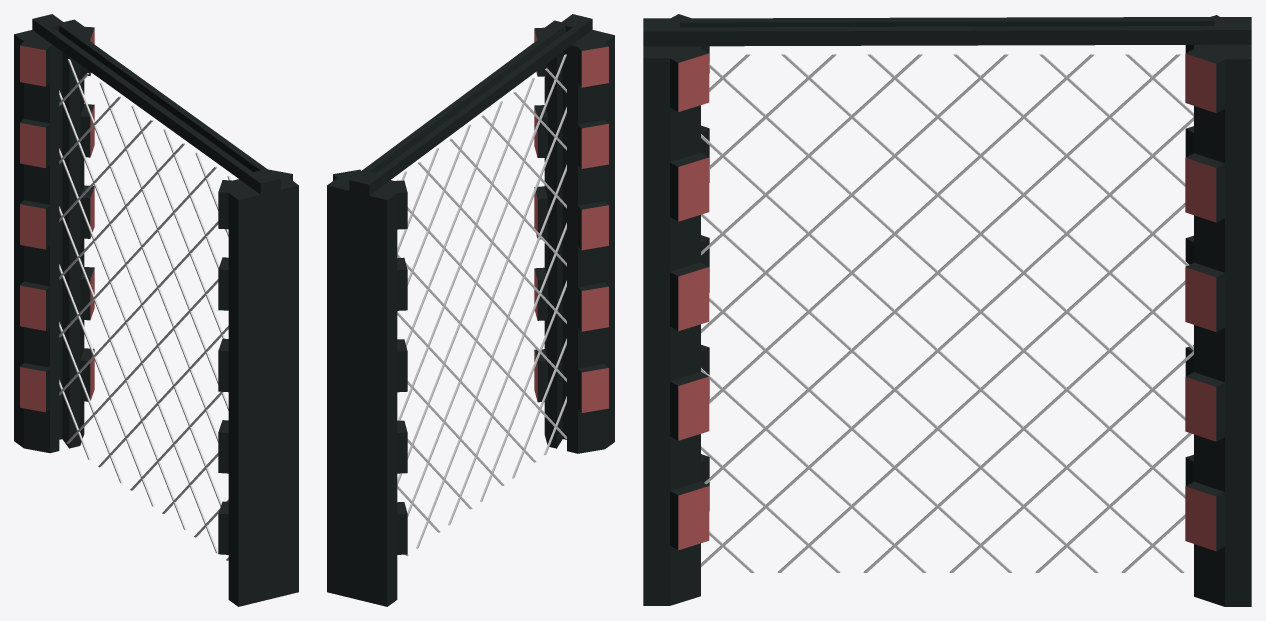
File: door.gltf
3 renders of one model, left to right at view 1: azimuth 30°, elevation 25°; view 2: azimuth 150°, elevation 25°; view 3: azimuth 270°, elevation 25°, orthographic. The views are drawn at different scales.
Parts seen in each view (by area): view 1: scianki, siatka; view 2: scianki, siatka; view 3: scianki, siatka.
Boxes of the visible parts, x1=… form: scianki: x1=14, y1=14, x2=298, y2=606; siatka: x1=59, y1=59, x2=231, y2=560; scianki: x1=327, y1=14, x2=614, y2=606; siatka: x1=397, y1=54, x2=566, y2=556; scianki: x1=643, y1=14, x2=1251, y2=606; siatka: x1=701, y1=54, x2=1193, y2=572.
Size of the model in its own units: 0.3887 by 2.04 by 2.
1 material, 1 textured.
